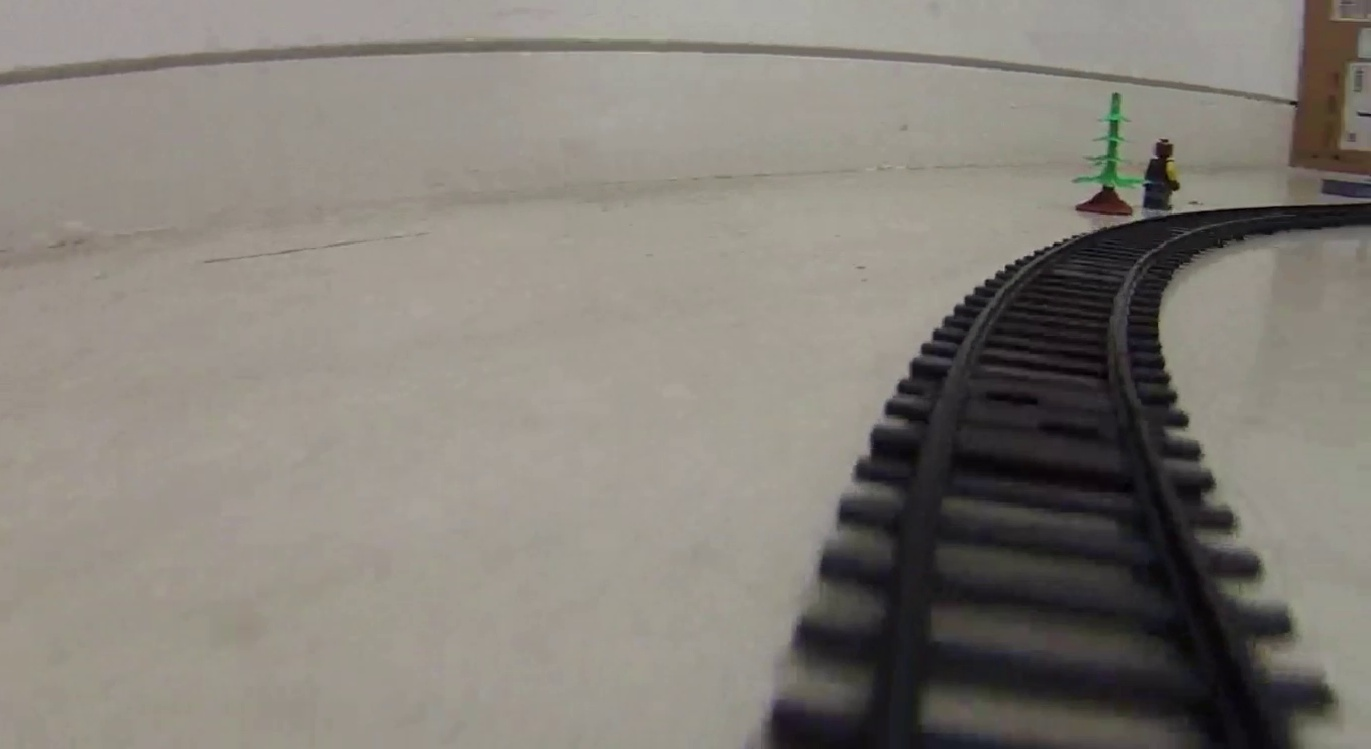people: (1143, 136, 1180, 212)
tree: (1073, 93, 1140, 218)
